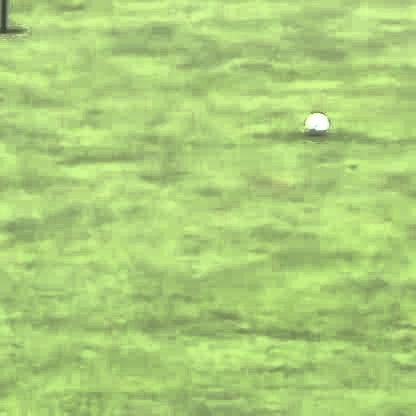golfball: (301, 108, 326, 133)
